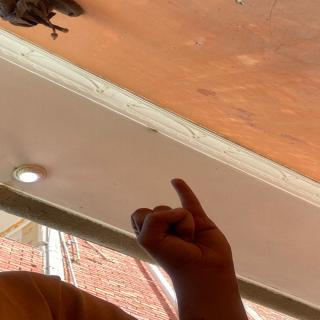MEEM: (122, 174, 236, 273)
